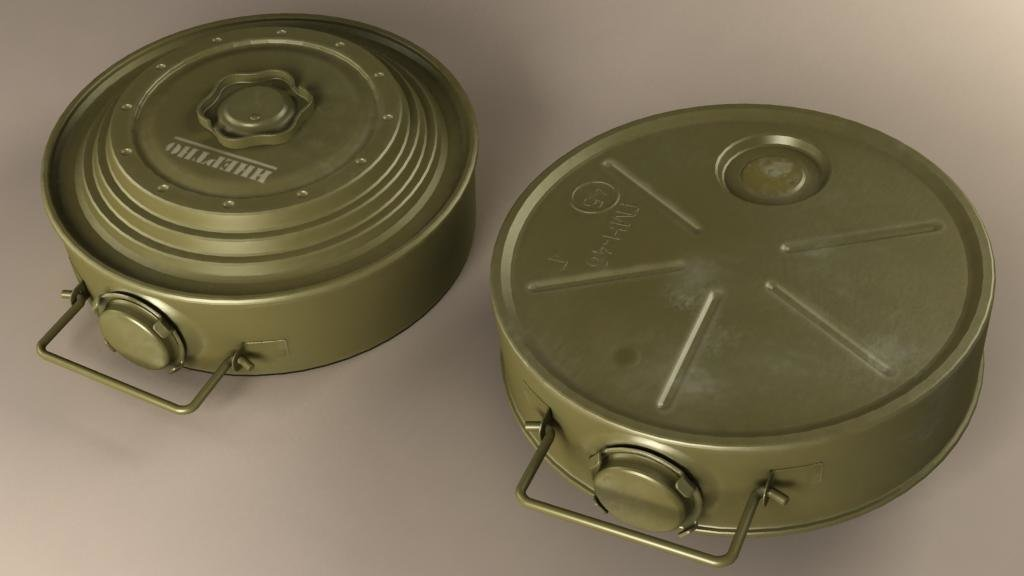car: (28, 11, 483, 432)
